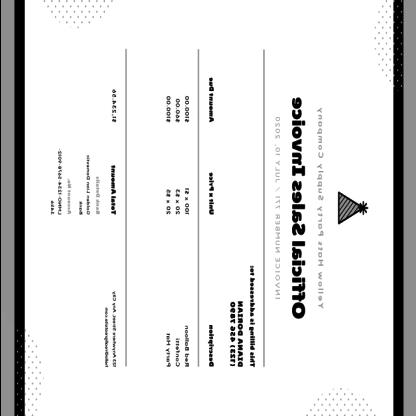Paragraph: (158, 49, 216, 370), (287, 95, 309, 320), (226, 263, 256, 371), (313, 104, 326, 312), (272, 113, 282, 303)
